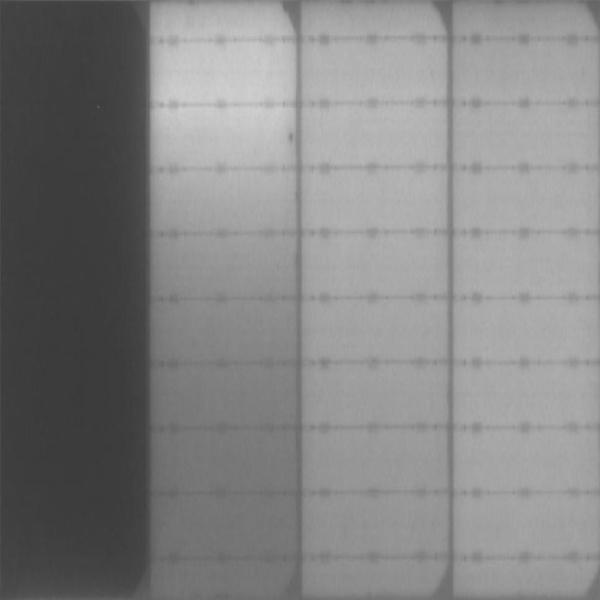no_electricity: (1, 1, 151, 597)
